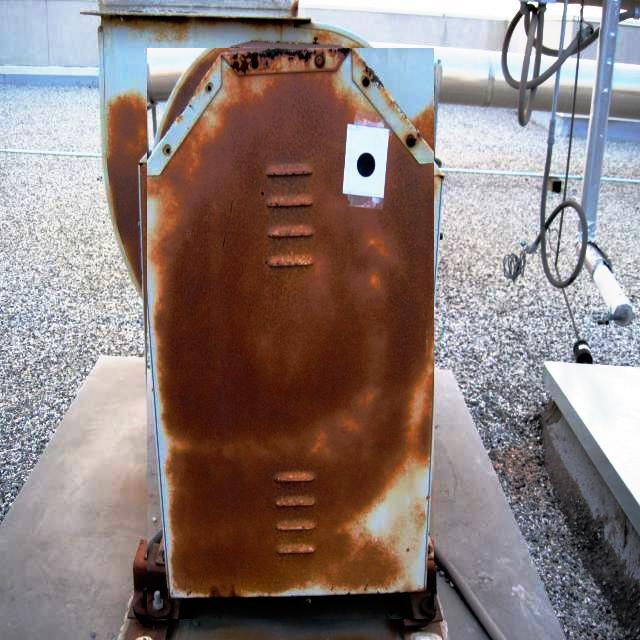Corrosion: (161, 114, 360, 596), (273, 275, 394, 502), (355, 211, 435, 496), (207, 73, 354, 148), (104, 95, 147, 284), (393, 152, 433, 306), (303, 535, 404, 595), (158, 48, 212, 138), (223, 47, 348, 75), (413, 105, 436, 146)
